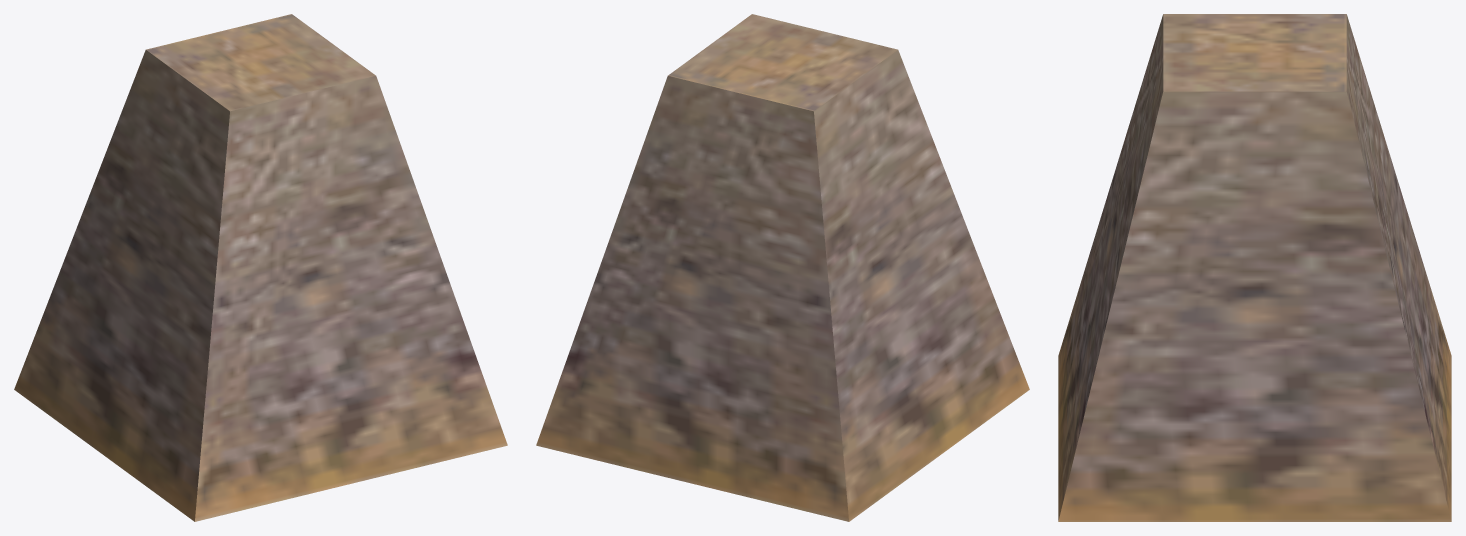
File: DragonsTeeth1.glb
The picture shows the model from 3 angles, left to right: view 1: azimuth 30°, elevation 25°; view 2: azimuth 150°, elevation 25°; view 3: azimuth 270°, elevation 25°; orthographic projection. The views are drawn at different scales.
Parts seen in each view (by area): view 1: DRAGONSTEETH1; view 2: DRAGONSTEETH1; view 3: DRAGONSTEETH1.
Part boxes in pixels (x1=…): DRAGONSTEETH1: x1=14, y1=14, x2=507, y2=521; DRAGONSTEETH1: x1=536, y1=14, x2=1029, y2=521; DRAGONSTEETH1: x1=1058, y1=14, x2=1451, y2=521.
Bounding box in the file's own units: 1.2 × 1.3 × 1.2.
Materials: 1 (1 with a texture image).
